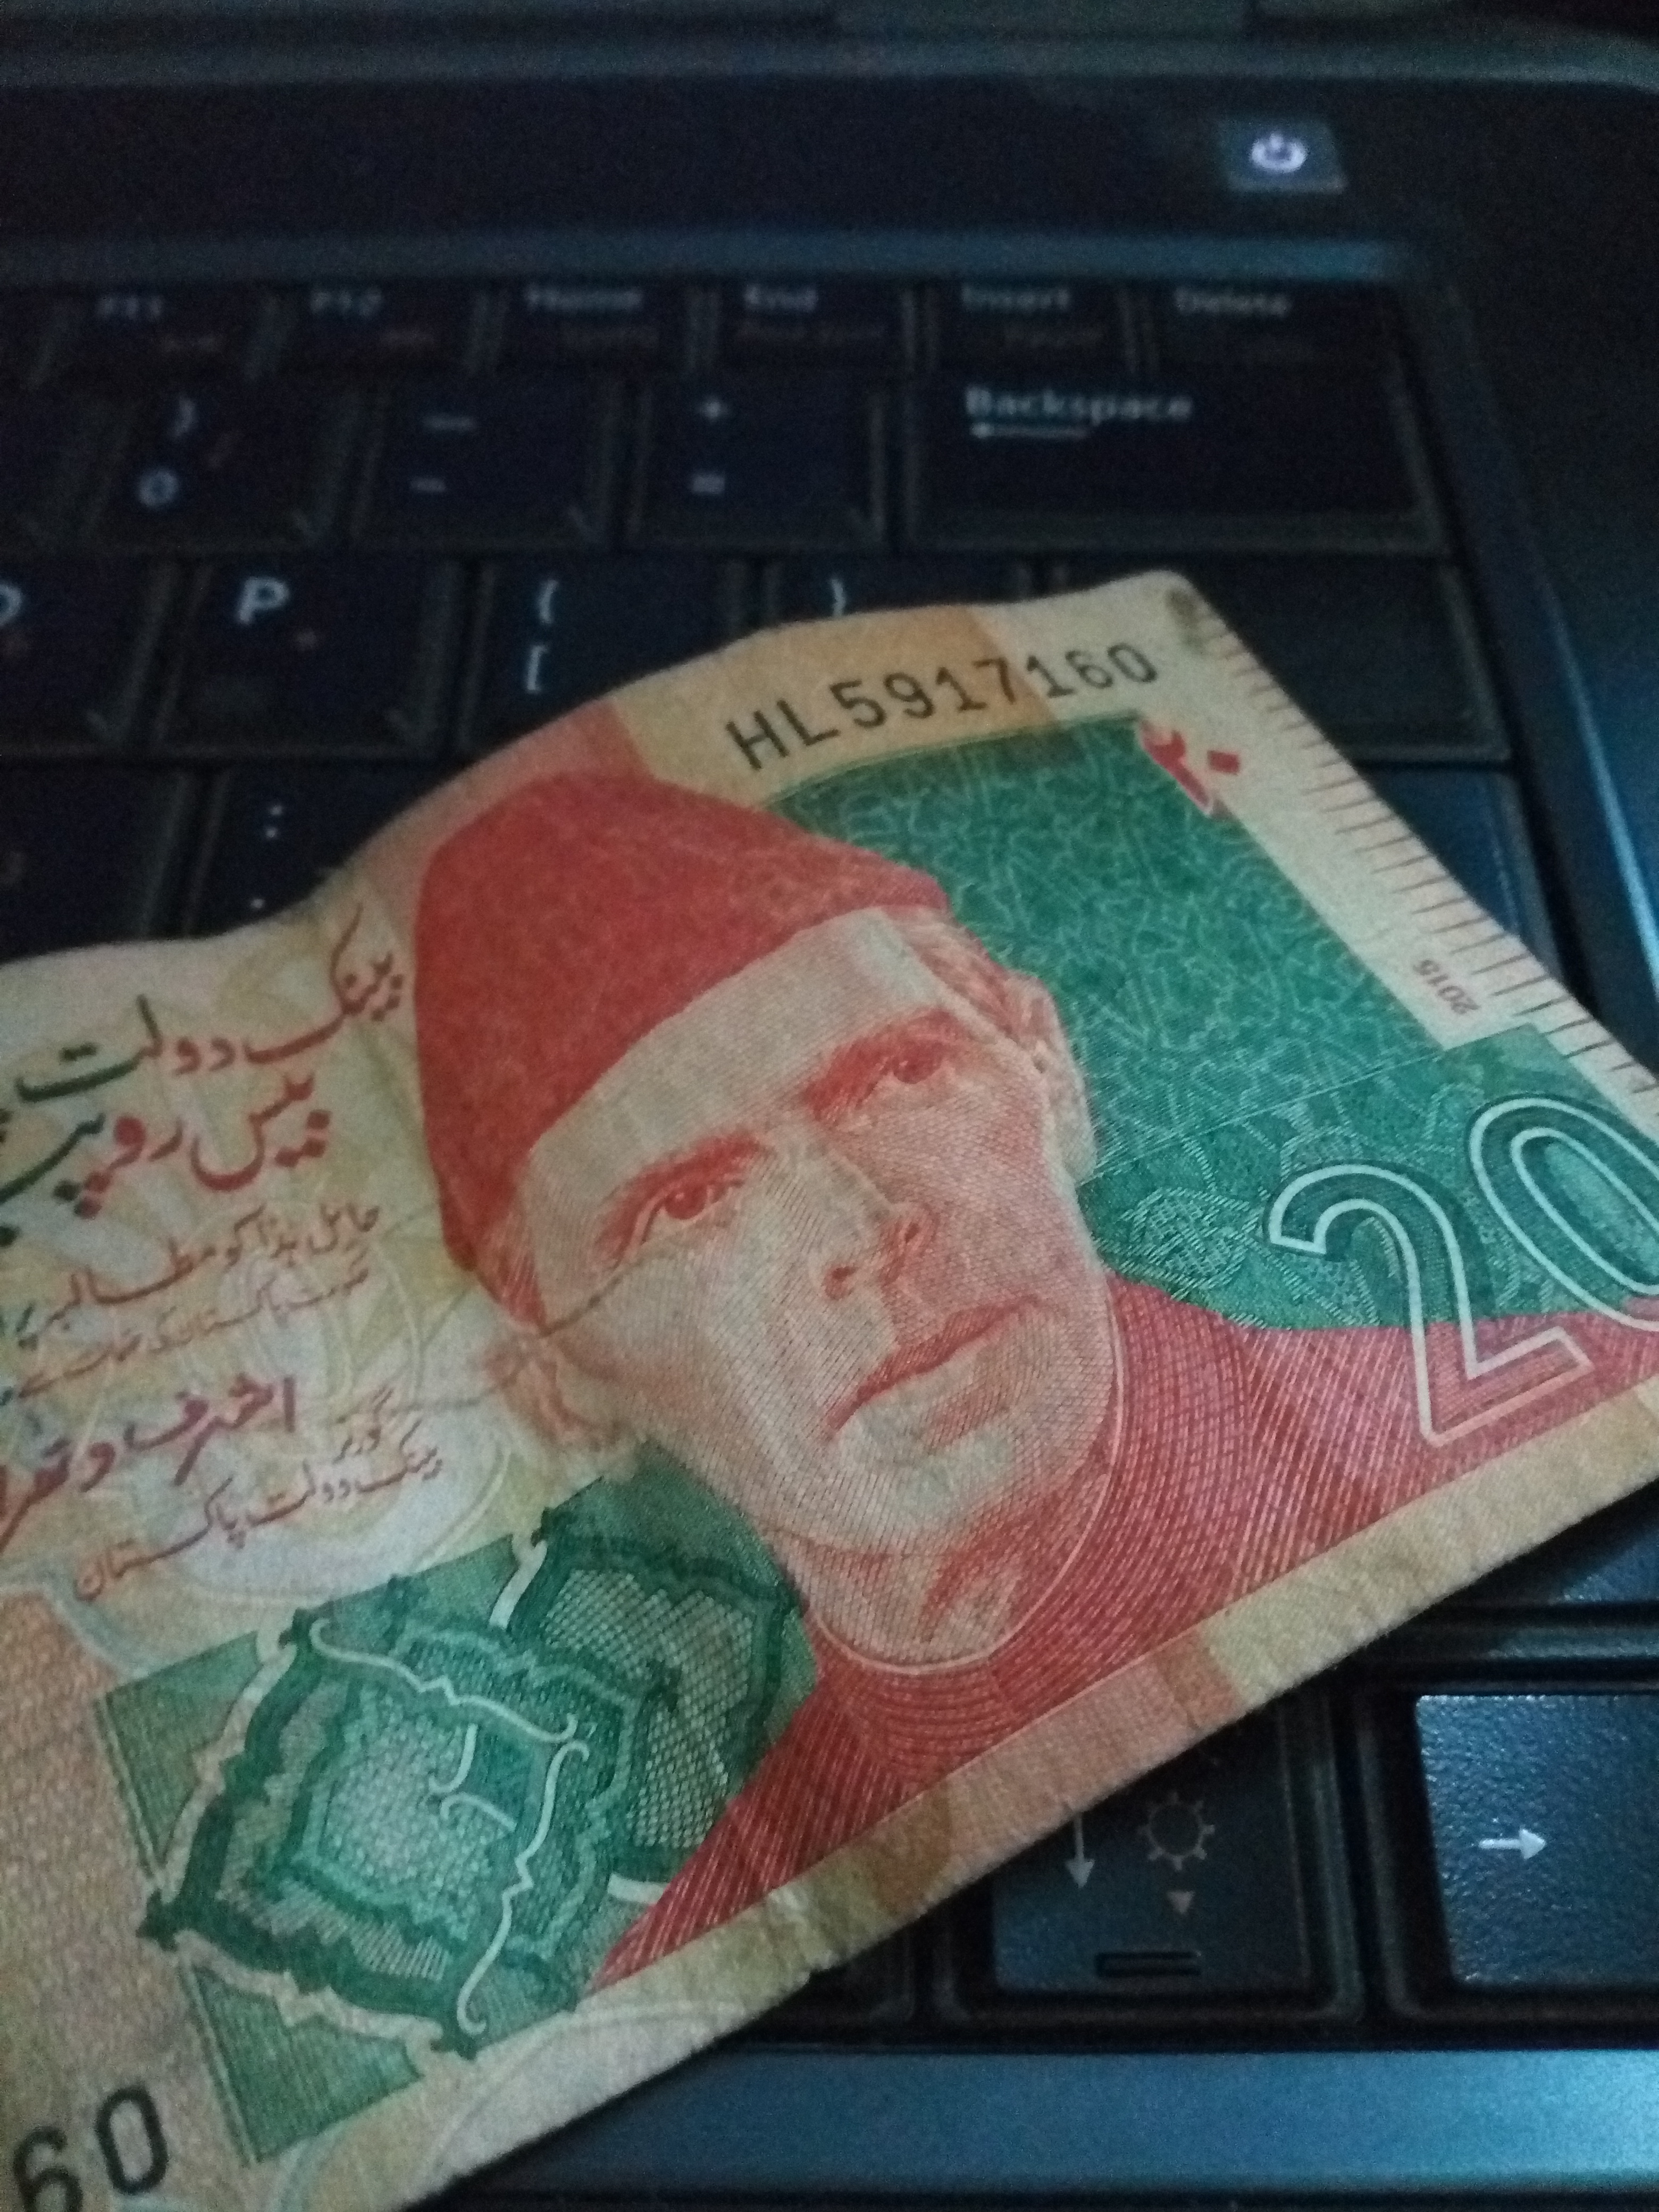20 rupee: (0, 542, 1657, 2212)
